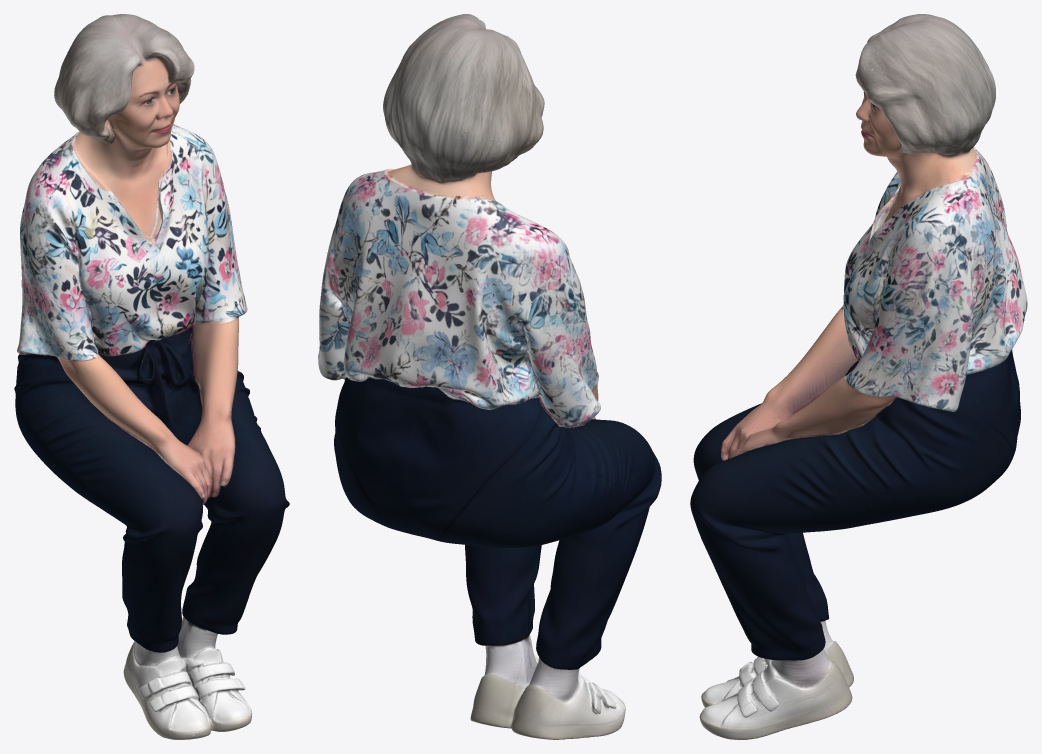
Rendered from quiet_contemplation.glb.
3 renders of one model, left to right at view 1: azimuth 30°, elevation 25°; view 2: azimuth 150°, elevation 25°; view 3: azimuth 270°, elevation 25°, orthographic. The views are drawn at different scales.
Visible parts, largest first — view 1: Object_5, Object_6, Object_7; view 2: Object_6, Object_5, Object_7; view 3: Object_5, Object_6, Object_7.
Boxes of the visible parts, x1=… form: Object_5: x1=14, y1=15, x2=289, y2=739; Object_6: x1=14, y1=14, x2=261, y2=686; Object_7: x1=80, y1=348, x2=282, y2=738; Object_6: x1=318, y1=27, x2=635, y2=739; Object_5: x1=319, y1=14, x2=661, y2=716; Object_7: x1=465, y1=417, x2=661, y2=739; Object_5: x1=690, y1=16, x2=1020, y2=739; Object_6: x1=757, y1=14, x2=1027, y2=723; Object_7: x1=694, y1=338, x2=825, y2=739.
Size of the model in its own units: 0.6953 by 1.9 by 0.8296.
Materials: 1 (1 with a texture image).
